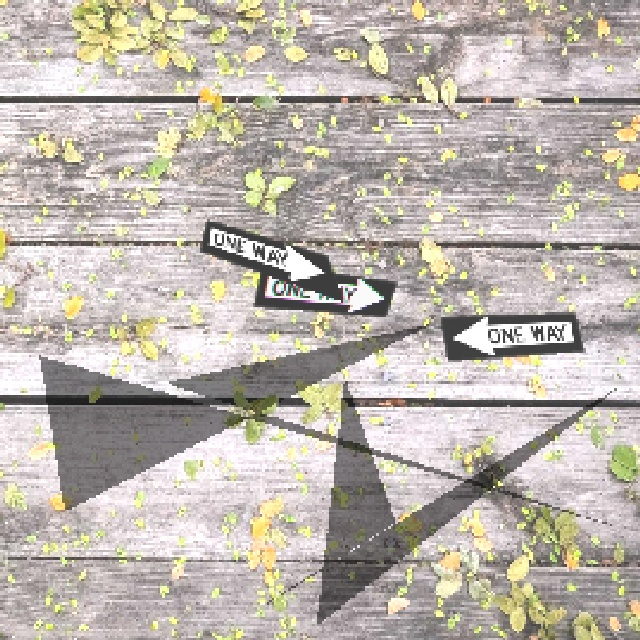ONE_WAY_ left: (438, 310, 583, 360)
ONE_WAY_ right: (197, 217, 342, 300), (251, 261, 396, 316)
